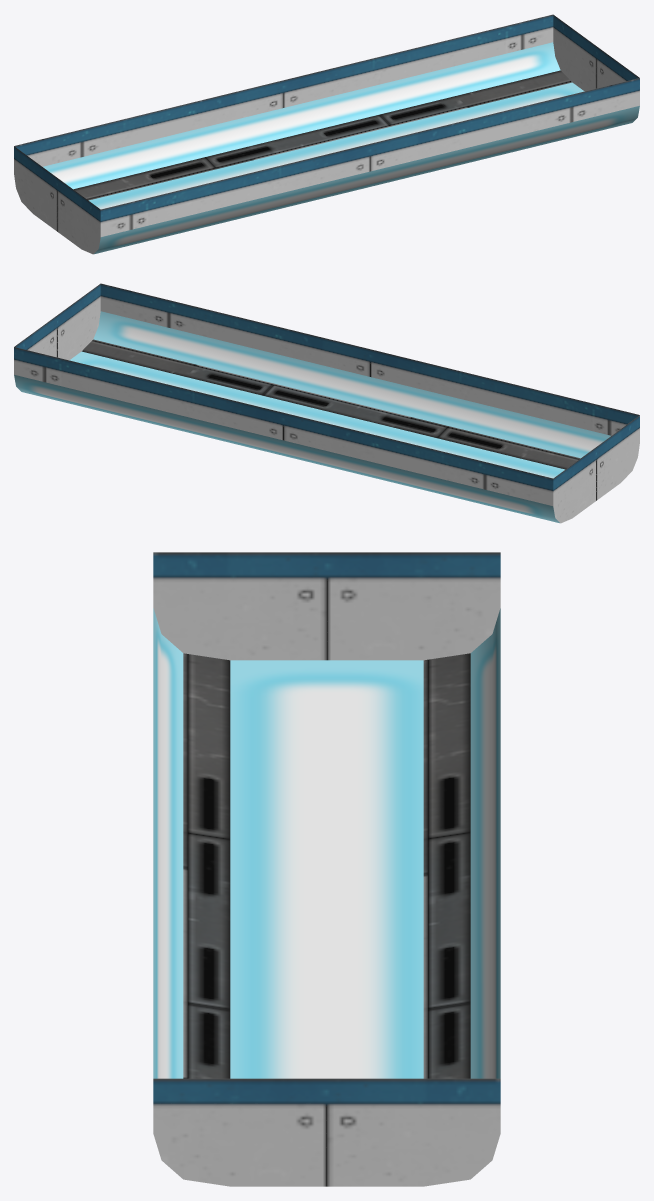
Rendered from Neon_Up_01.FBX.
The picture shows the model from 3 angles, top to bottom: view 1: azimuth 30°, elevation 25°; view 2: azimuth 150°, elevation 25°; view 3: azimuth 270°, elevation 25°; orthographic projection. The views are drawn at different scales.
Visible parts, largest first — view 1: Neon_Up_01, Neons; view 2: Neon_Up_01, Neons; view 3: Neon_Up_01, Neons.
Part boxes in pixels (bbox=[...]): Neon_Up_01: bbox=[14, 14, 639, 254]; Neons: bbox=[43, 42, 639, 254]; Neon_Up_01: bbox=[14, 283, 639, 523]; Neons: bbox=[14, 311, 610, 523]; Neon_Up_01: bbox=[153, 552, 500, 1186]; Neons: bbox=[153, 608, 500, 1078].
Size of the model in its own units: 99.98 by 9.56 by 27.86.
